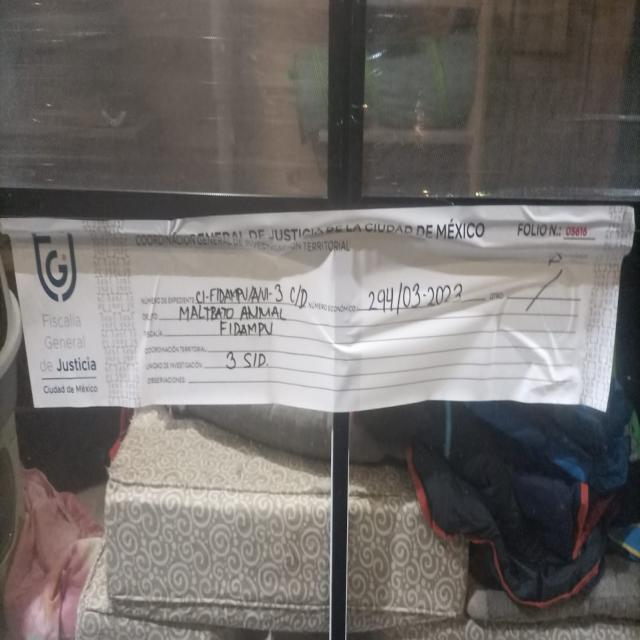stamps: (16, 208, 629, 410)
